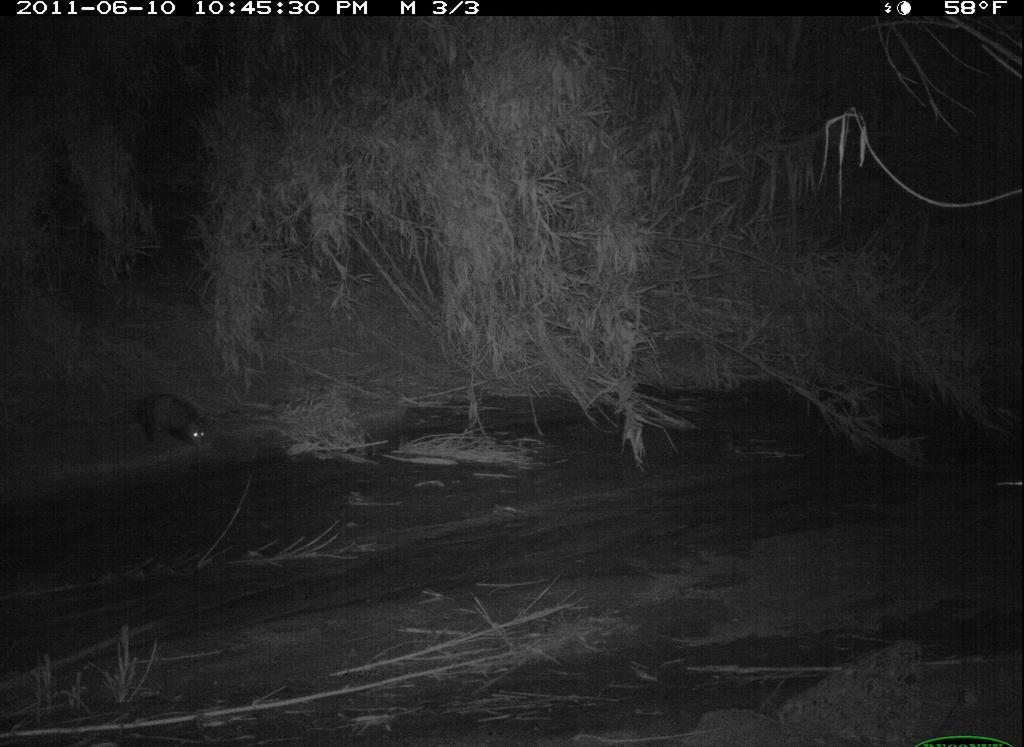opossum: (89, 365, 237, 465)
